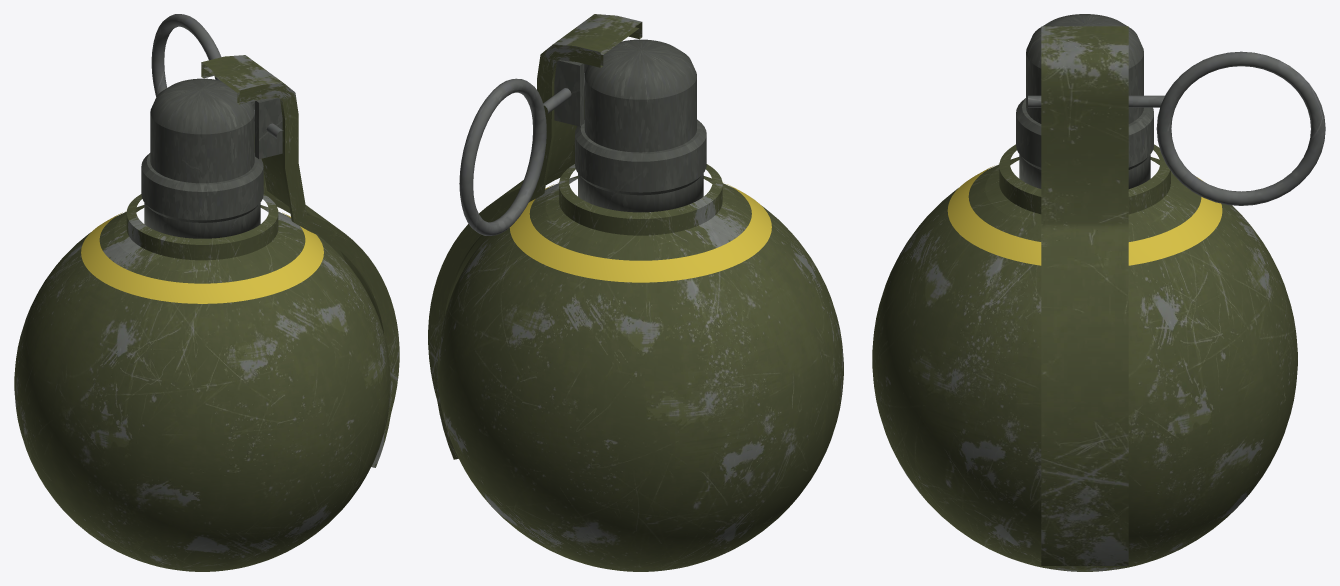
File: grenade.glb
The picture shows the model from 3 angles, left to right: view 1: azimuth 30°, elevation 25°; view 2: azimuth 150°, elevation 25°; view 3: azimuth 270°, elevation 25°; orthographic projection. The views are drawn at different scales.
Parts seen in each view (by area): view 1: body, spoon, pin; view 2: body, spoon, pin; view 3: body, spoon, pin.
Boxes of the visible parts, x1=… form: body: x1=14, y1=78, x2=390, y2=571; spoon: x1=201, y1=55, x2=399, y2=467; pin: x1=151, y1=14, x2=283, y2=138; body: x1=437, y1=39, x2=843, y2=571; spoon: x1=428, y1=14, x2=642, y2=459; pin: x1=459, y1=73, x2=584, y2=235; body: x1=872, y1=14, x2=1297, y2=571; spoon: x1=1041, y1=26, x2=1128, y2=565; pin: x1=1028, y1=51, x2=1325, y2=205.
Size of the model in its own units: 0.0664 by 0.0882 by 0.0676.
5 materials, 4 textured.
